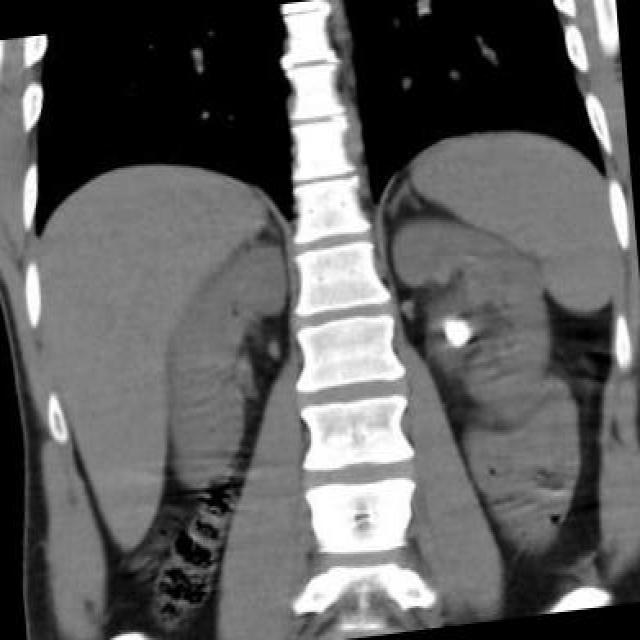Tas_Var: (440, 314, 473, 352)
